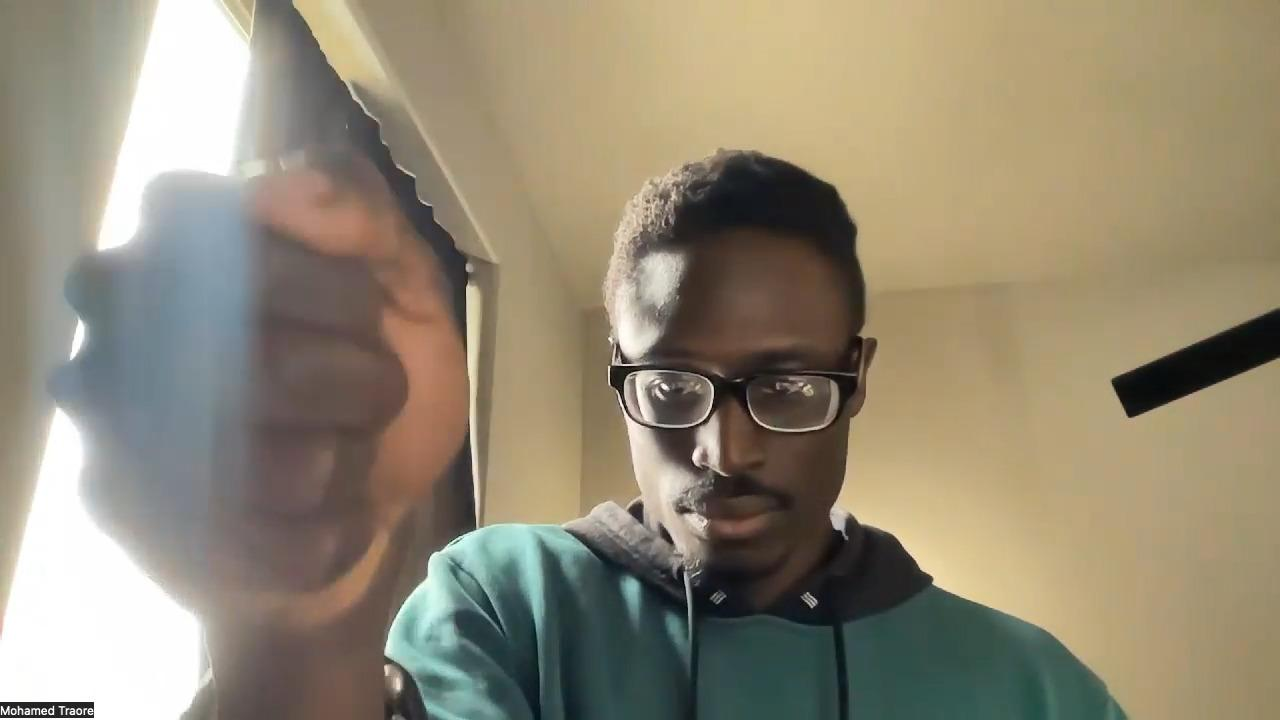Rock: (45, 148, 472, 647)
